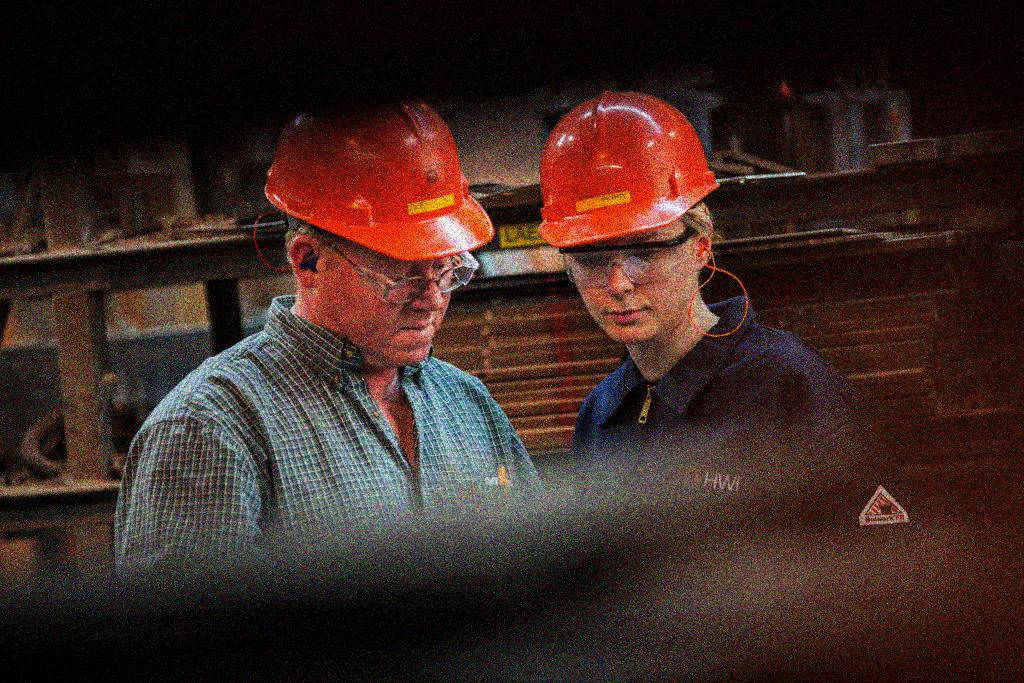helmet: (259, 94, 496, 369), (536, 88, 721, 343)
